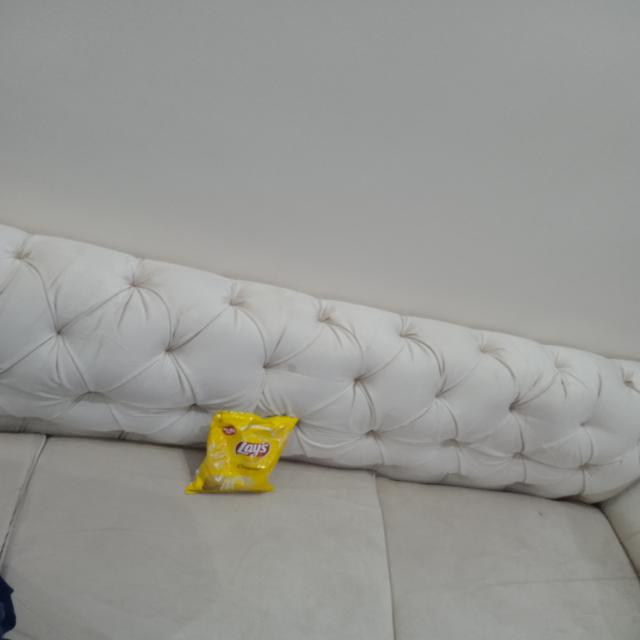Plastic: (186, 406, 304, 497)
